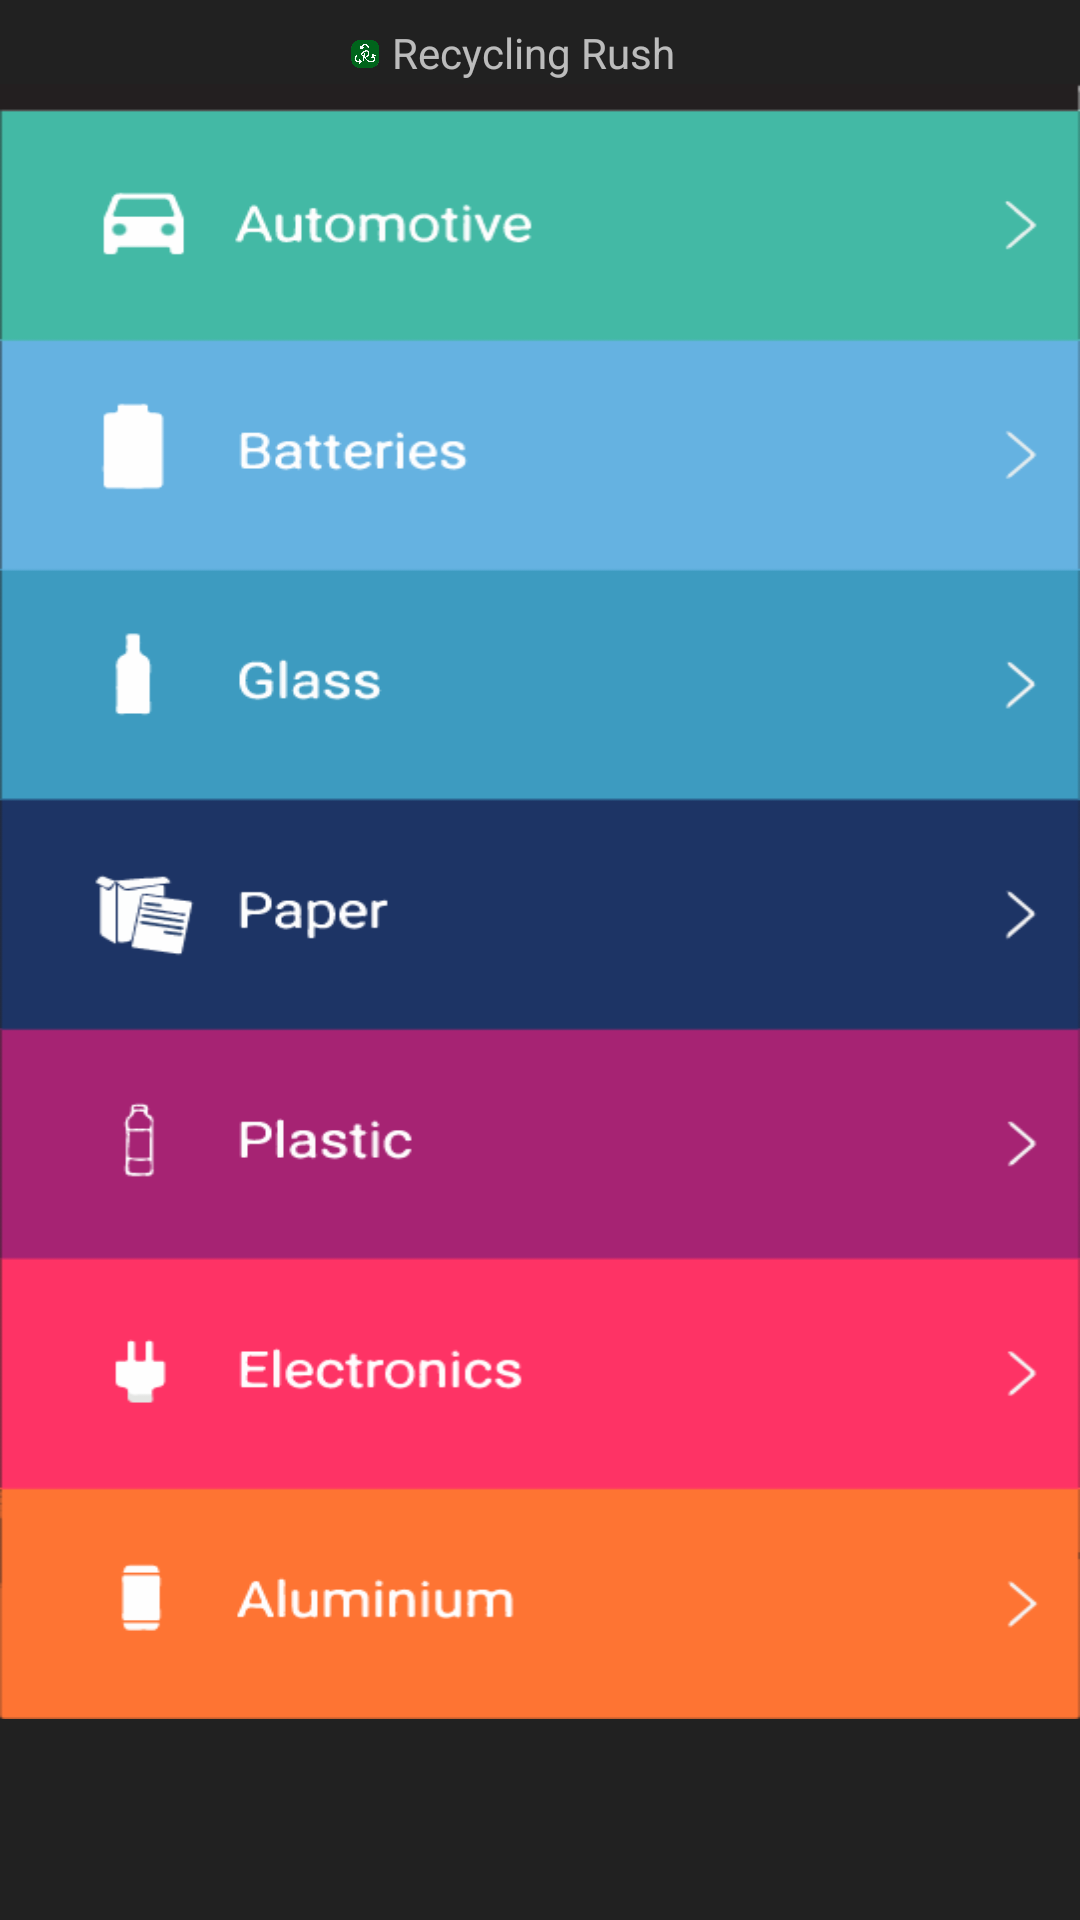

Icon bounding boxes for this 1080*1920 phone screenshot, format detection(x1, y1, x2, y2):
recyckubgsgkigi: detection(351, 40, 379, 68)
